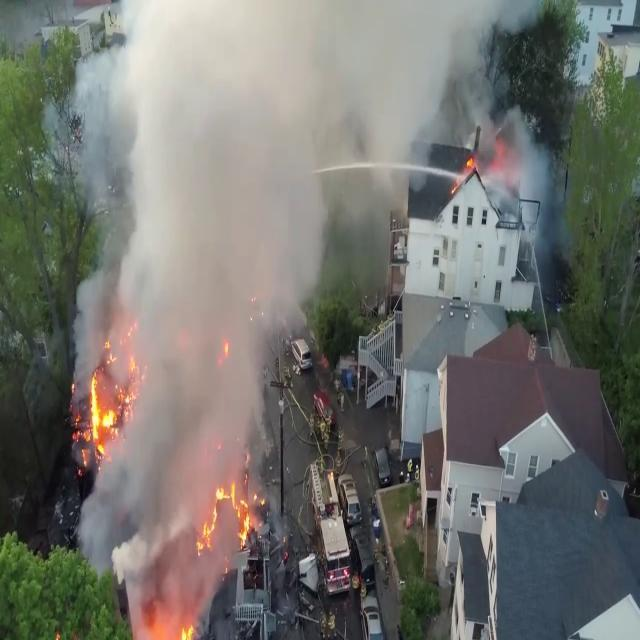Fire: (80, 332, 138, 457), (197, 476, 263, 550), (136, 608, 198, 640)
Smoke: (71, 0, 467, 263), (68, 259, 300, 639)
